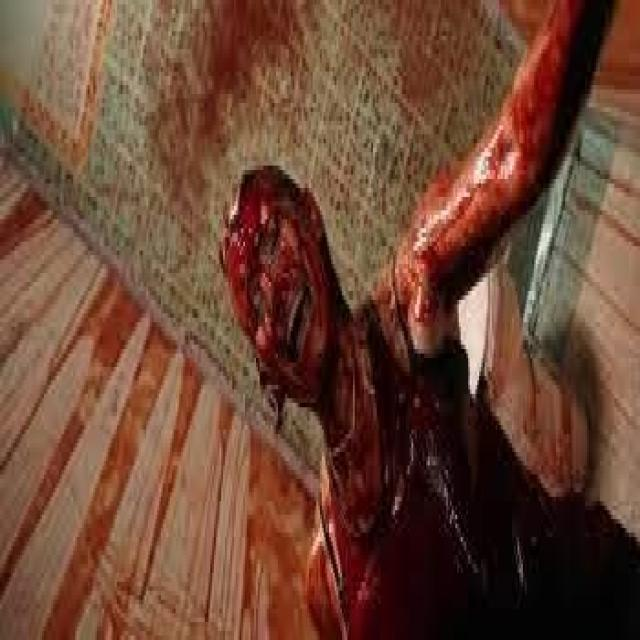flood: (216, 156, 342, 394), (350, 382, 460, 632), (384, 170, 544, 320), (482, 0, 592, 157)
